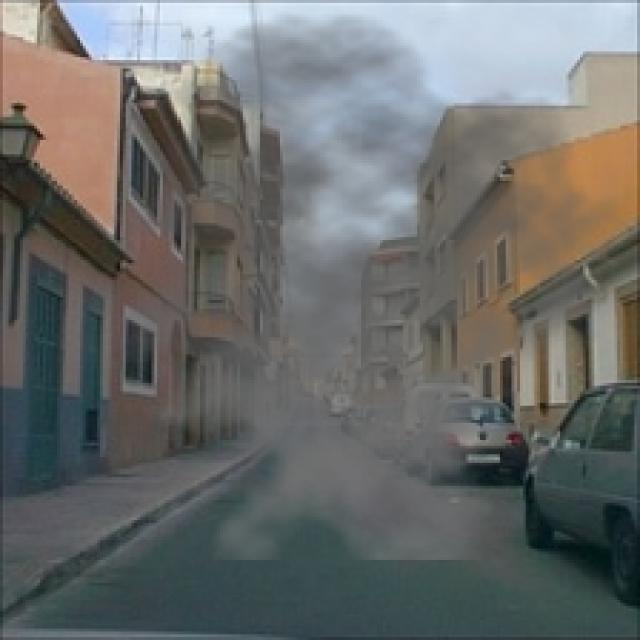smoke: (57, 11, 626, 560)
